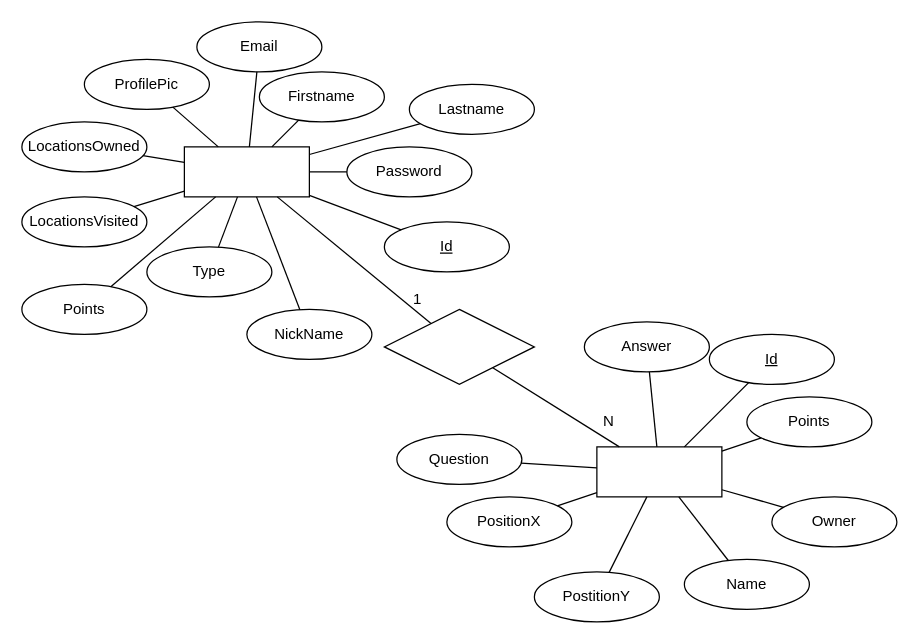
The diagram is 919 pixels wide and 644 high, and some of its shapes have lost their labels. The box of each missing label's shape, as (x1, y1, x2, y2) in pixels:
MyLocation: (596, 446, 722, 497)
Owns: (383, 308, 534, 384)
Player: (183, 146, 309, 197)
